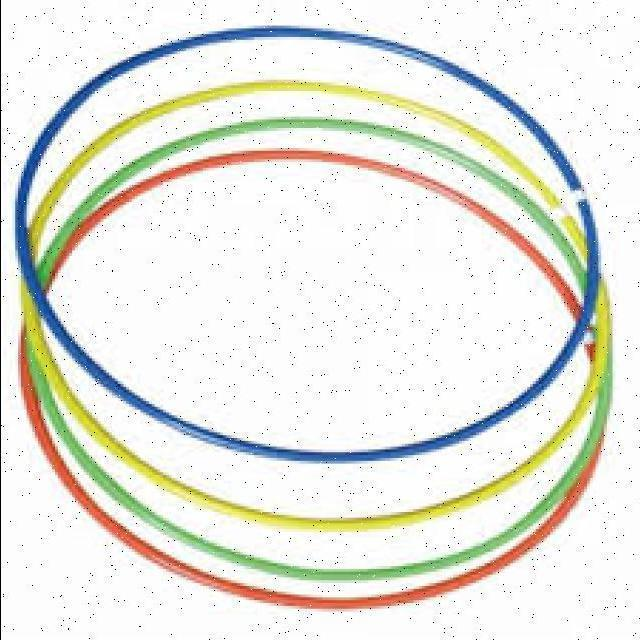Circle: (16, 19, 603, 464)
